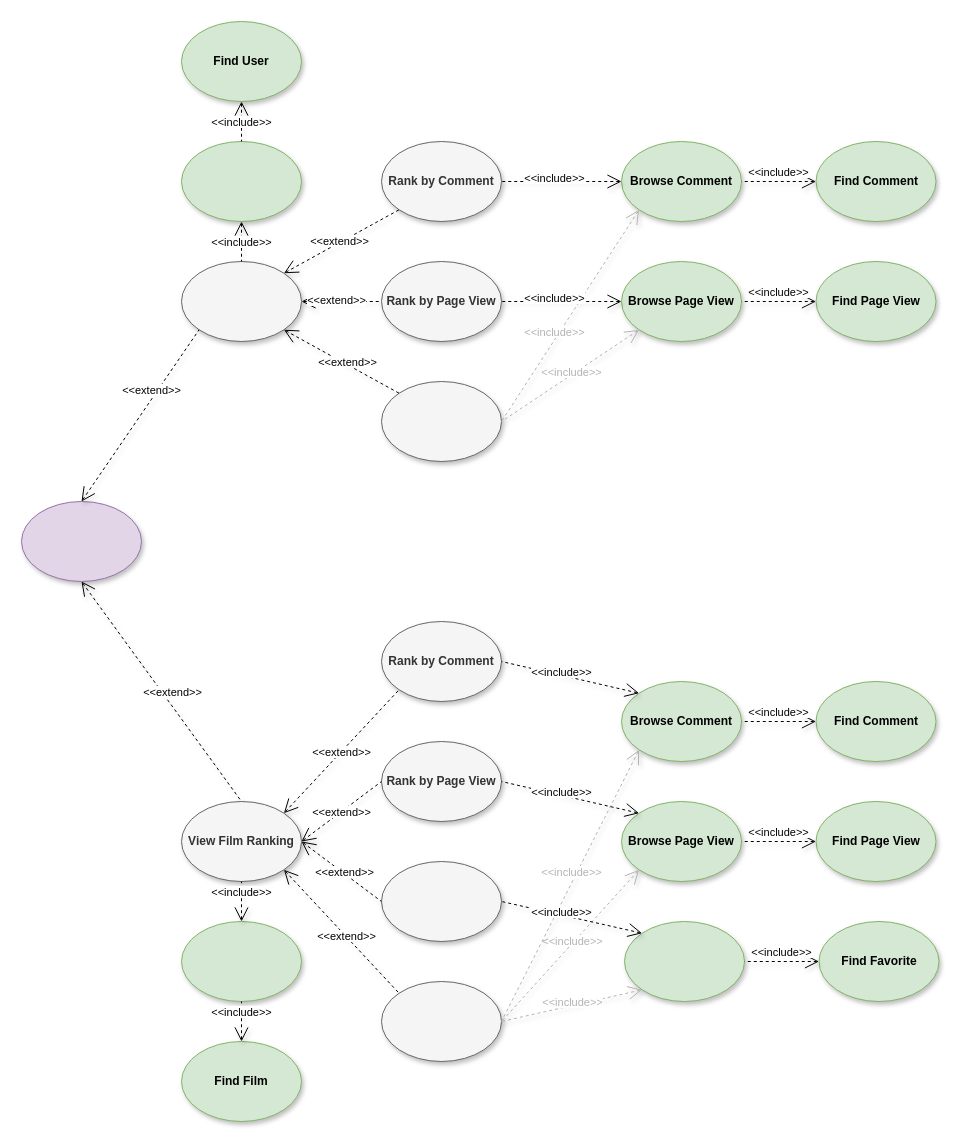
Some shapes in this 963 by 1146 pixel diagram are drawn without their labels. The centre of each missing label's shape, as x and y in pixels:
"Browse Favorite" belongs at (x=685, y=962).
"Browse Film" belongs at (x=242, y=962).
"Browse User" belongs at (x=242, y=182).
"Rank by Activity" belongs at (x=442, y=422).
"Rank by Engagment" belongs at (x=442, y=1022).
"Rank by Favourite" belongs at (x=442, y=902).
"View Ranking" belongs at (x=82, y=542).
"View User Ranking" belongs at (x=242, y=302).
